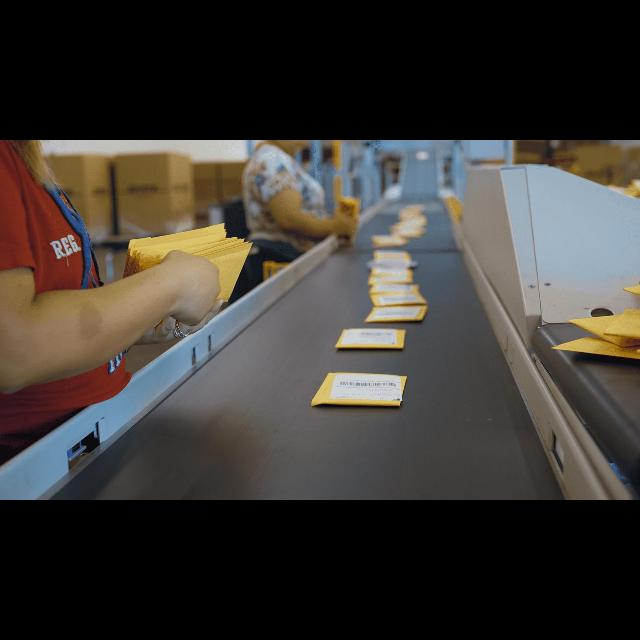mailer: (312, 373, 406, 406), (335, 328, 405, 349), (364, 306, 426, 322), (371, 291, 426, 306), (368, 271, 412, 285), (369, 284, 418, 294), (367, 259, 417, 268), (371, 235, 408, 247), (373, 251, 410, 261), (371, 267, 411, 275)
